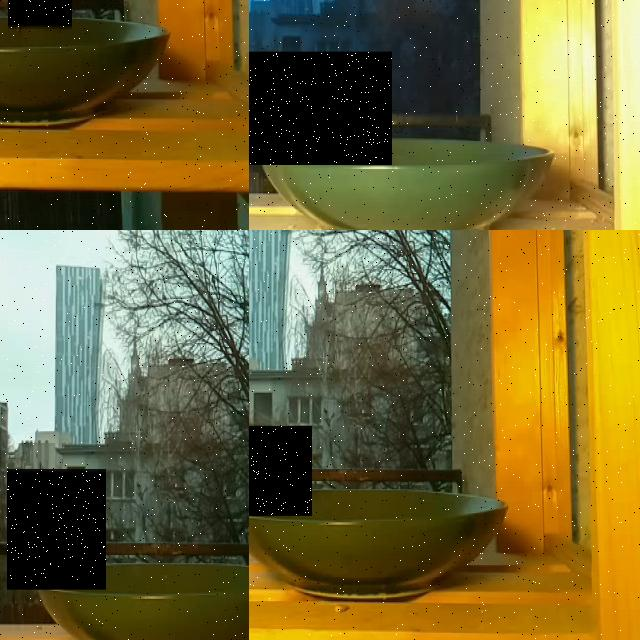Bogatka: (249, 51, 392, 165)
Wrobel: (7, 470, 106, 590), (249, 426, 312, 515), (8, 0, 72, 28)
